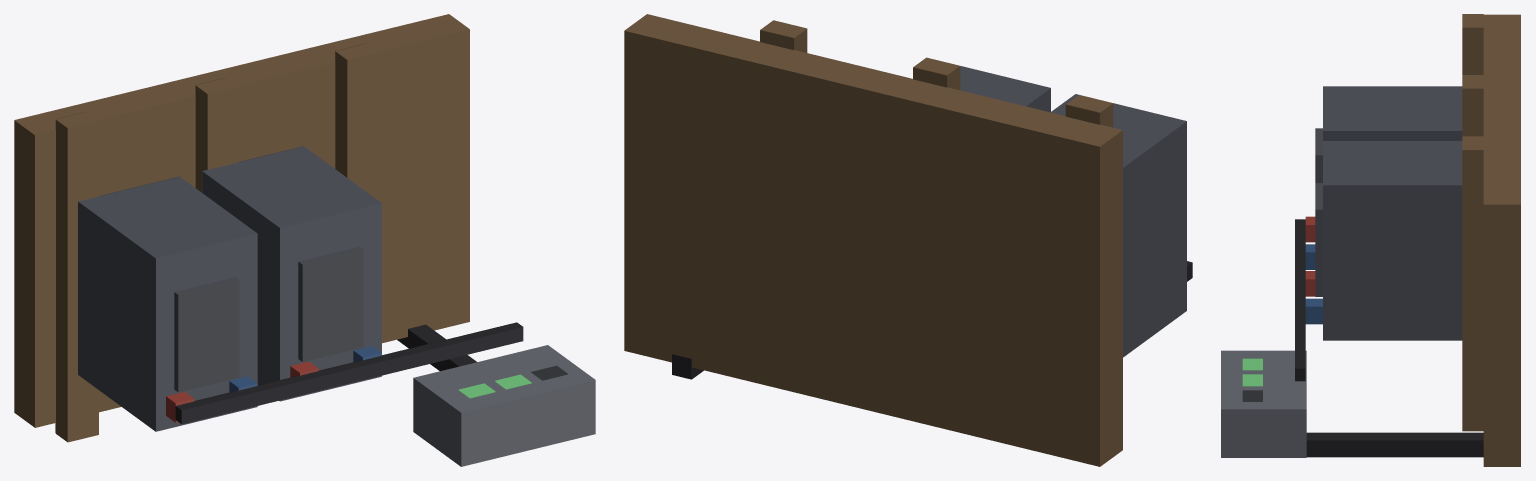
Rendered from bank_ground_makeshift_c2_S.obj.
The picture shows the model from 3 angles, left to right: view 1: azimuth 30°, elevation 25°; view 2: azimuth 150°, elevation 25°; view 3: azimuth 270°, elevation 25°; orthographic projection. The views are drawn at different scales.
Visible parts, largest first — view 1: bank_ground_makeshift_c2_S; view 2: bank_ground_makeshift_c2_S; view 3: bank_ground_makeshift_c2_S.
Part boxes in pixels (<box>): bank_ground_makeshift_c2_S: <box>14,14,595,466</box>; bank_ground_makeshift_c2_S: <box>624,14,1192,466</box>; bank_ground_makeshift_c2_S: <box>1221,14,1520,466</box>.
Bounding box in the file's own units: 0.84 × 0.58 × 0.5615.
Materials: 1 (1 with a texture image).
